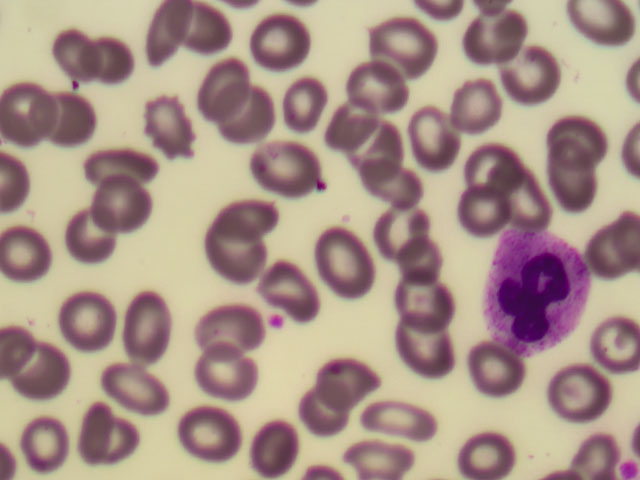Platelets: (266, 310, 292, 335), (621, 460, 640, 480)
RBC: (48, 27, 100, 83), (84, 34, 136, 90), (54, 91, 106, 147), (7, 87, 59, 143), (1, 227, 53, 283), (63, 212, 115, 268), (92, 180, 144, 236), (93, 142, 145, 198), (146, 99, 198, 155), (197, 61, 249, 117), (222, 90, 274, 146), (274, 77, 326, 133), (259, 16, 311, 72), (190, 5, 242, 61), (136, 6, 188, 62), (381, 14, 433, 70), (355, 57, 407, 113), (323, 91, 375, 147), (351, 117, 403, 173), (368, 156, 420, 212), (405, 110, 457, 166), (452, 75, 504, 131), (468, 7, 520, 63), (515, 47, 567, 103), (582, 1, 634, 57), (552, 112, 604, 168), (547, 152, 599, 208), (502, 170, 554, 226), (465, 138, 517, 194), (457, 183, 509, 239), (377, 208, 429, 264), (388, 227, 440, 283), (401, 277, 453, 333), (405, 320, 457, 376), (322, 243, 374, 299), (268, 257, 320, 313), (207, 231, 259, 287), (220, 193, 272, 249), (258, 139, 310, 195), (125, 298, 177, 354), (62, 298, 114, 354), (28, 340, 80, 396), (100, 358, 152, 414), (82, 404, 134, 460), (22, 416, 74, 472), (181, 405, 233, 461), (201, 347, 253, 403), (206, 303, 258, 359), (320, 354, 372, 410), (298, 387, 350, 443), (250, 419, 302, 475), (349, 424, 401, 480), (373, 396, 425, 452), (457, 424, 509, 480), (467, 345, 519, 401), (552, 366, 604, 422), (588, 316, 640, 372), (588, 220, 640, 276)
WBC: (488, 230, 591, 352)
